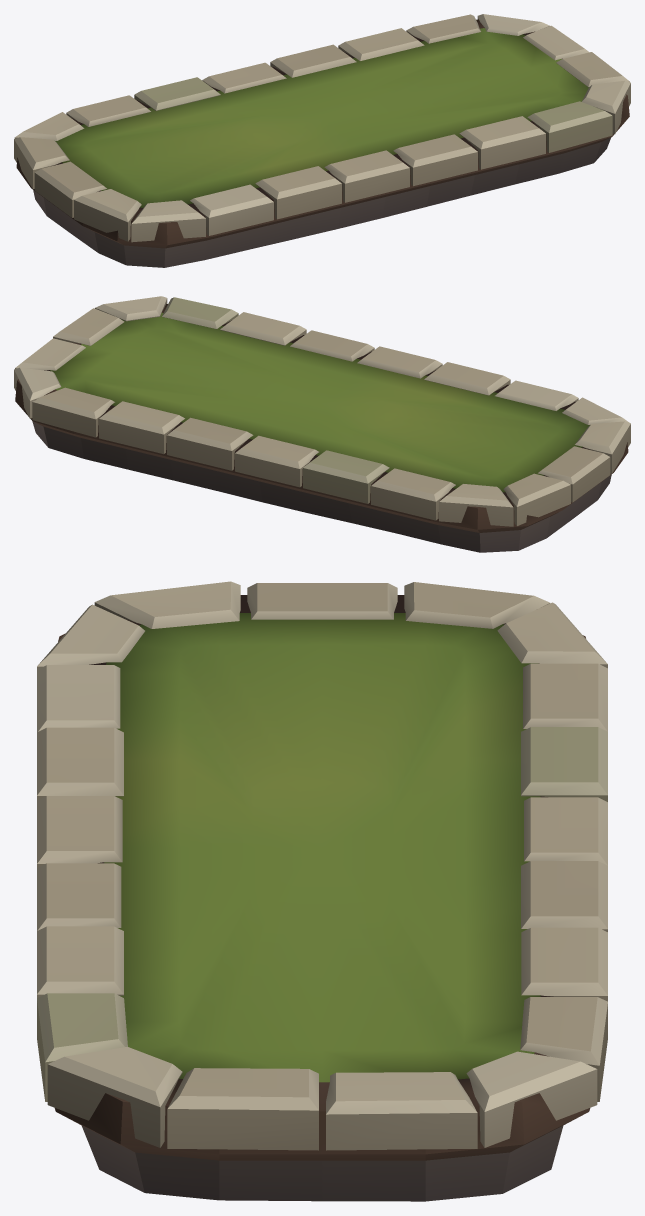
File: plateforme_L.glb
3 views of the same model, one above another, from view 1: azimuth 30°, elevation 25°; view 2: azimuth 150°, elevation 25°; view 3: azimuth 270°, elevation 25° (orthographic). The views are drawn at different scales.
Visible parts, largest first — view 1: plateforme_L; view 2: plateforme_L; view 3: plateforme_L.
Part boxes in pixels (bbox=[...]): plateforme_L: bbox=[14, 14, 630, 267]; plateforme_L: bbox=[14, 296, 630, 552]; plateforme_L: bbox=[37, 581, 607, 1201].
Bounding box in the file's own units: 6.28 × 1.21 × 2.88.
